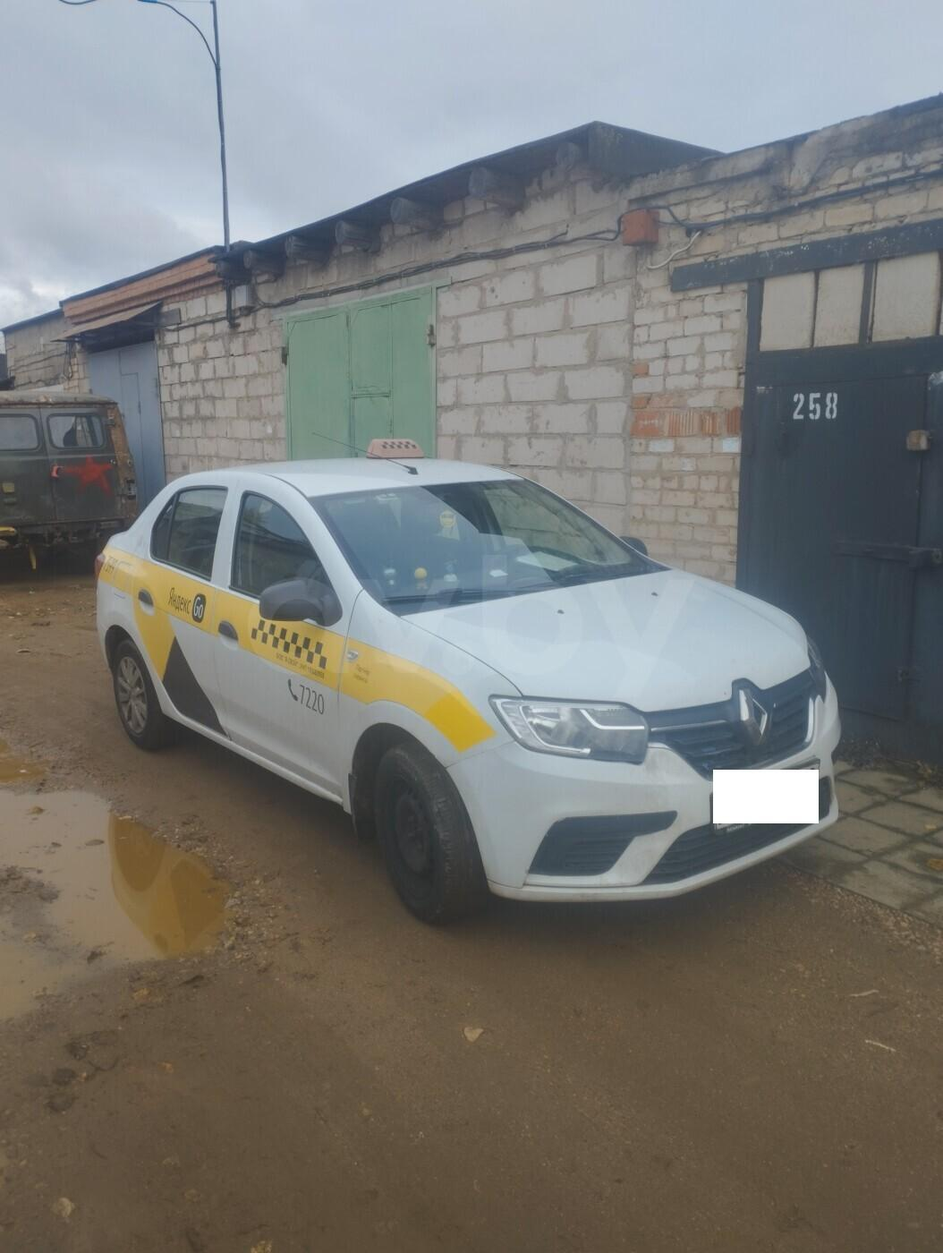Logan_2013-2018: (95, 451, 862, 911)
